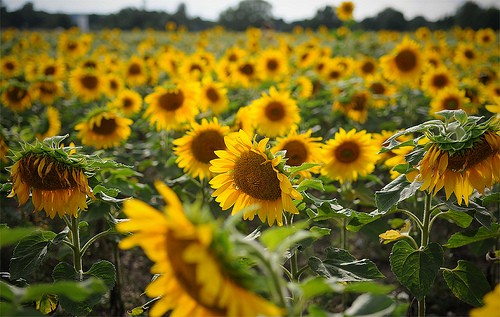flower: (116, 177, 289, 317), (207, 127, 302, 229), (0, 137, 97, 221), (170, 115, 232, 182), (143, 71, 207, 134), (319, 127, 383, 183), (234, 86, 302, 138), (269, 123, 324, 183), (377, 37, 436, 90), (72, 110, 134, 151), (67, 67, 108, 104)
